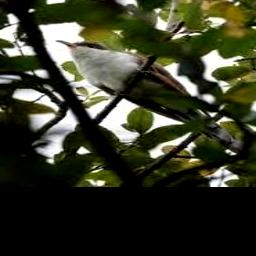Cuckoo: (57, 39, 246, 152)
